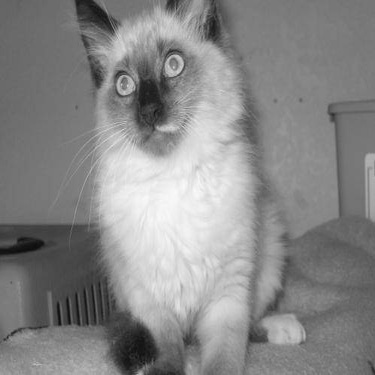cat: (70, 2, 306, 371)
